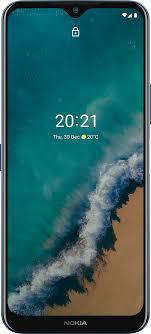Smartphone: (0, 2, 151, 334)
